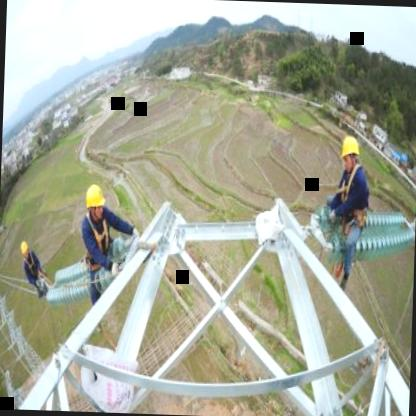helmet: (82, 182, 106, 224), (339, 134, 362, 176), (20, 240, 30, 260)
